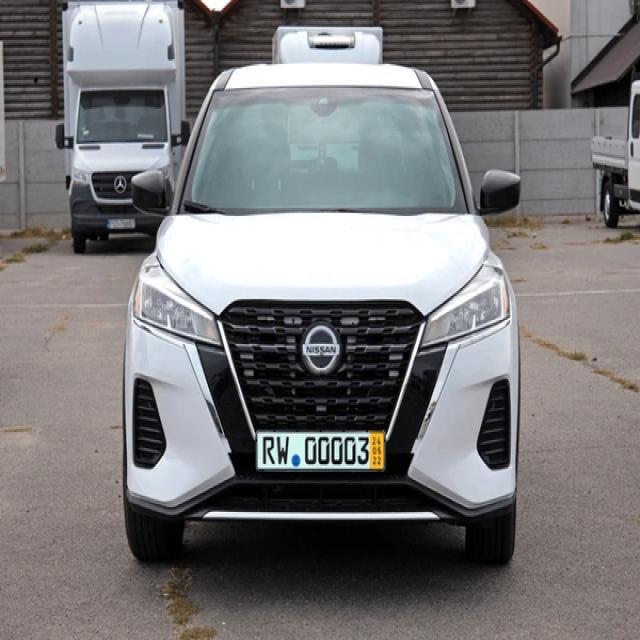mercedes: (112, 174, 128, 194)
nissan: (302, 326, 342, 376)
